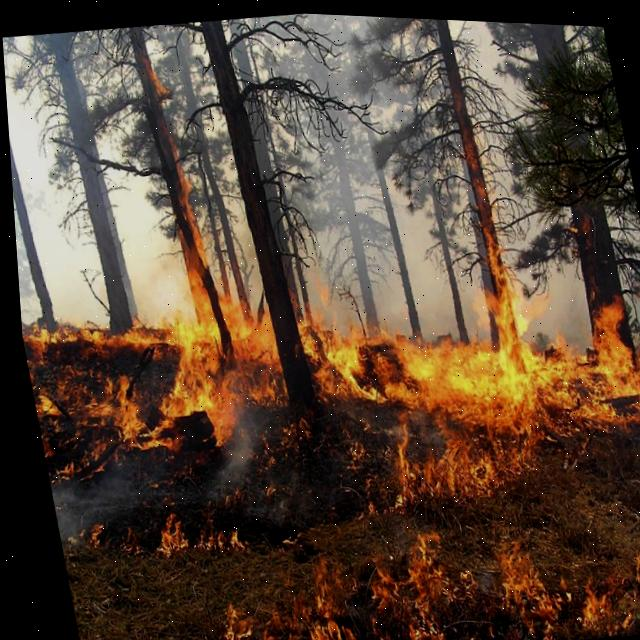fire: (305, 302, 640, 497), (105, 253, 275, 445), (483, 535, 605, 630), (395, 517, 468, 640)
smoke: (241, 10, 583, 319), (2, 26, 188, 315), (152, 20, 248, 286), (45, 497, 114, 545)
